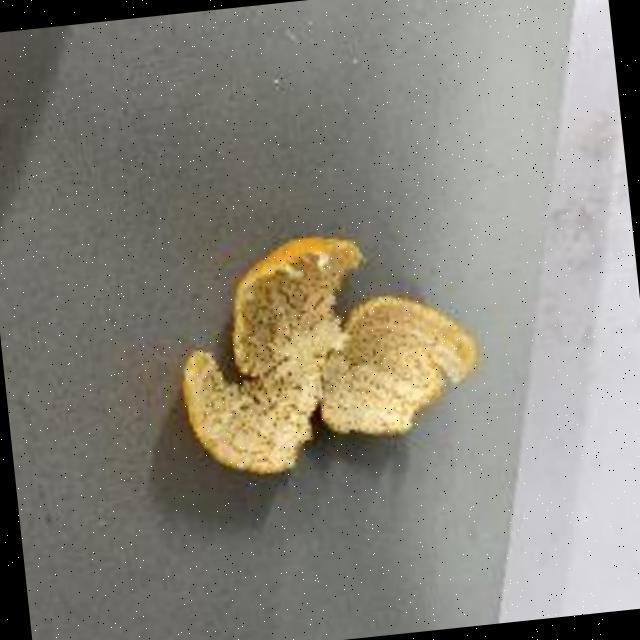orange-peel: (162, 215, 488, 484)
